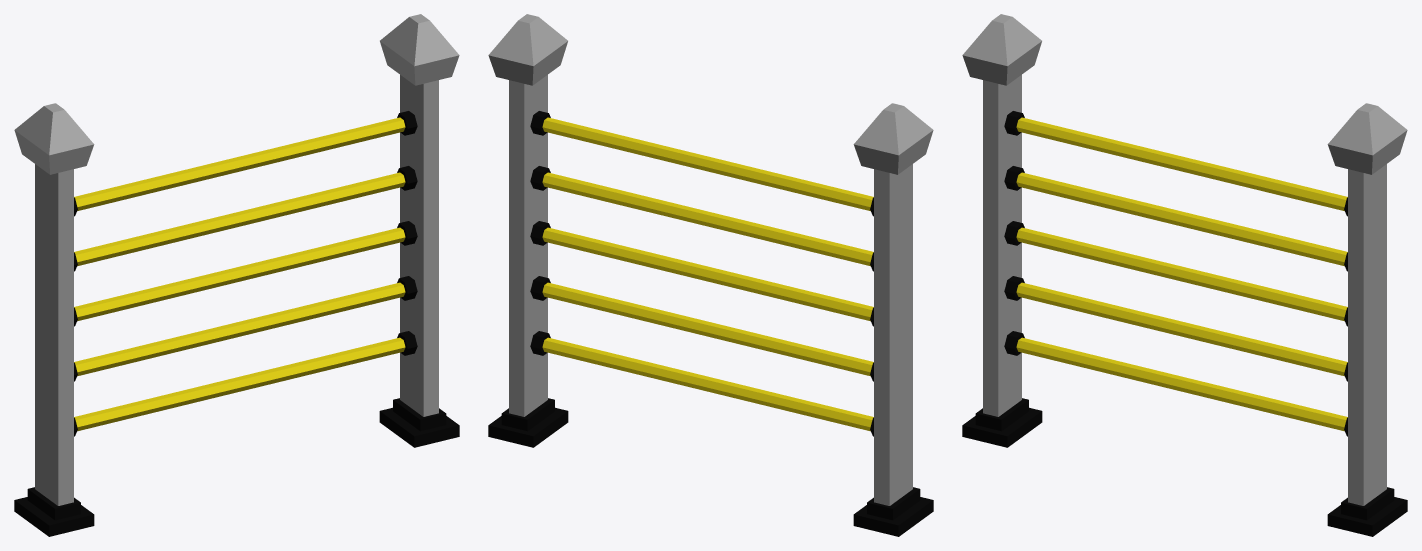
The model's file is Wall.fbx.
3 renders of one model, left to right at view 1: azimuth 30°, elevation 25°; view 2: azimuth 150°, elevation 25°; view 3: azimuth 330°, elevation 25°, orthographic.
Parts seen in each view (by area): view 1: Plane.002; view 2: Plane.002; view 3: Plane.002.
Part boxes in pixels (<box>): Plane.002: <box>14,14,459,536</box>; Plane.002: <box>488,14,933,536</box>; Plane.002: <box>962,14,1407,536</box>.
Bounding box in the file's own units: 187 × 27.38 × 179.
